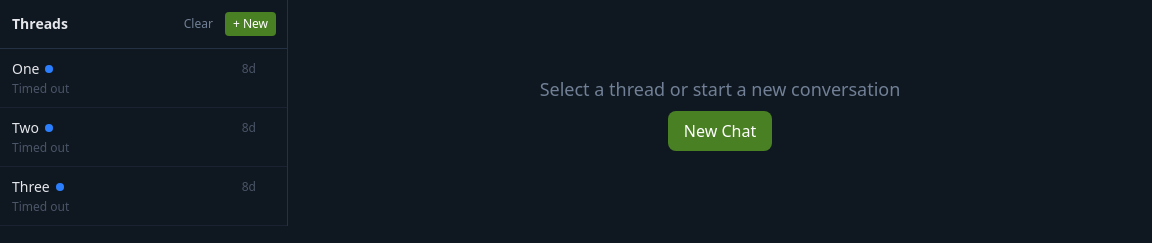
ChatLayout bulk delete — a partial result stated as partial › POSITIVE CONTROL: two failures out of three are counted and named
The width and height of the screenshot is (1152, 243).
Click the button "Clear" at (198, 24), box top-left (176, 12), bottom-right (221, 36)
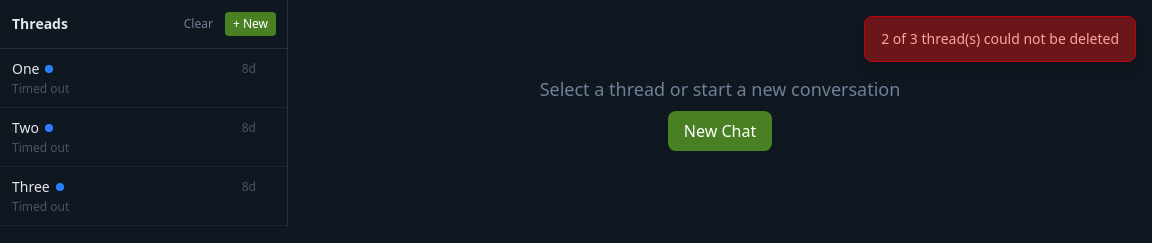
Now the message with test id "toast-error" shows "2 of 3", box top-left (881, 29), bottom-right (1119, 48)
